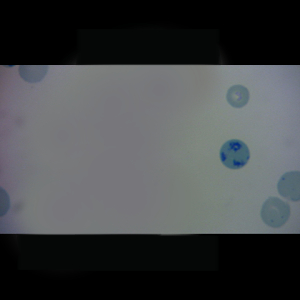aggregate reticulocyte: (218, 139, 251, 170)
erythrocyte: (225, 84, 251, 109)
punctate reticulocyte: (260, 195, 293, 229)
